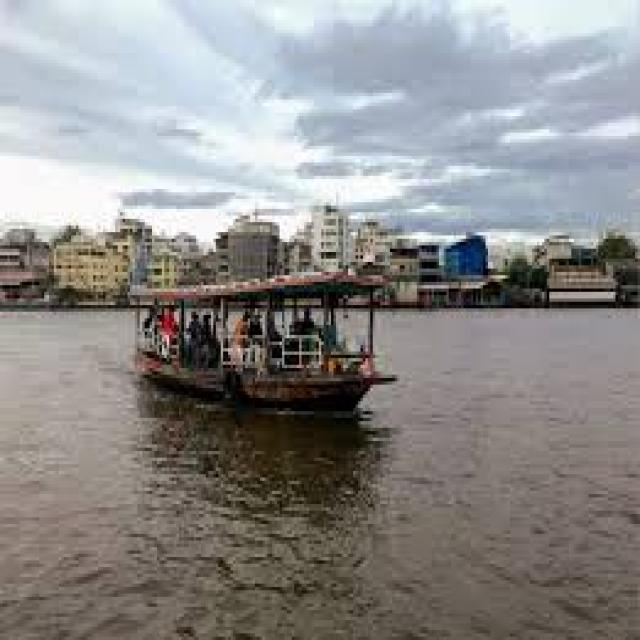houseboat: (129, 281, 410, 406)
